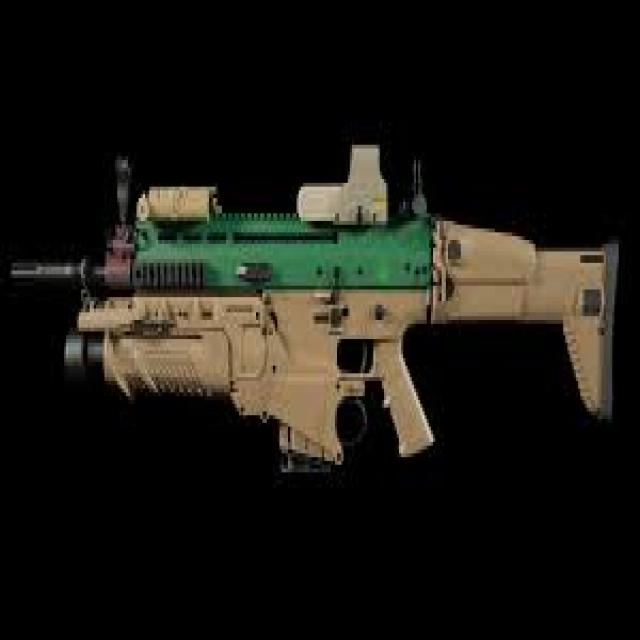Gun: (30, 135, 640, 505)
